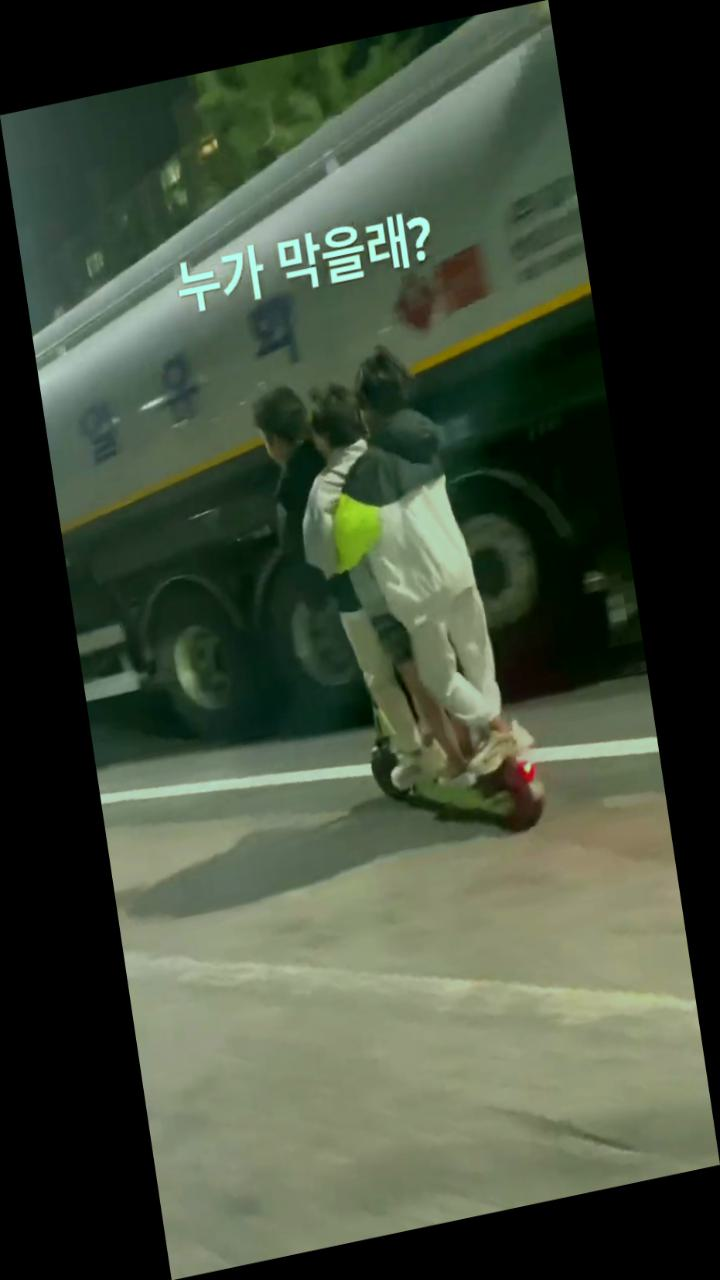multiple: (238, 321, 557, 885)
